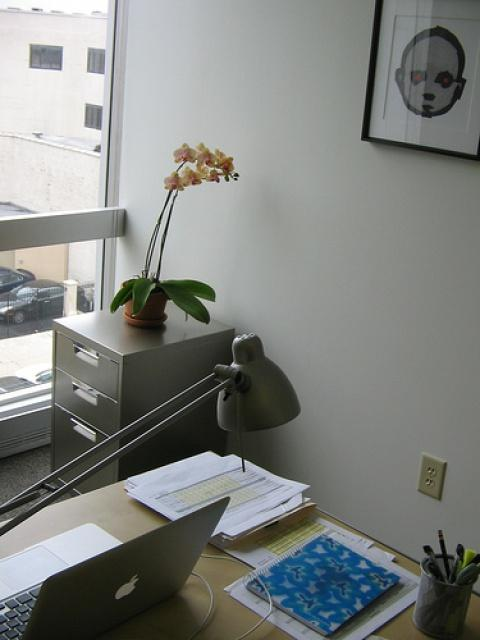Filing Cabinet: (48, 318, 123, 505)
